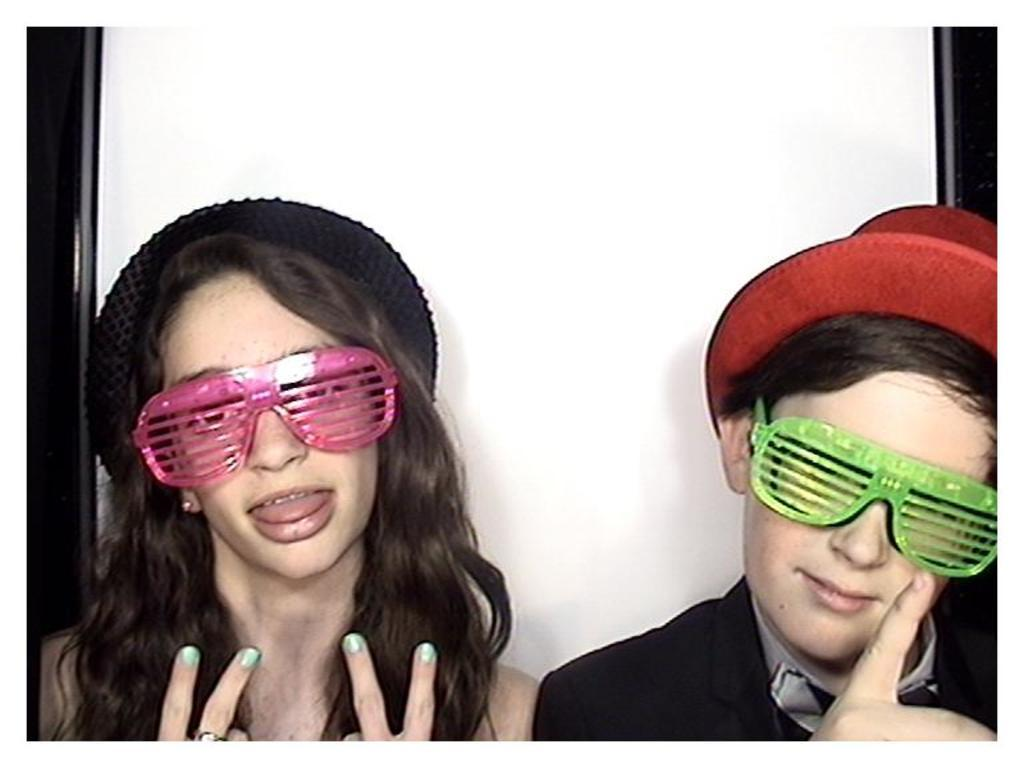Hat: (704, 200, 1022, 432)
